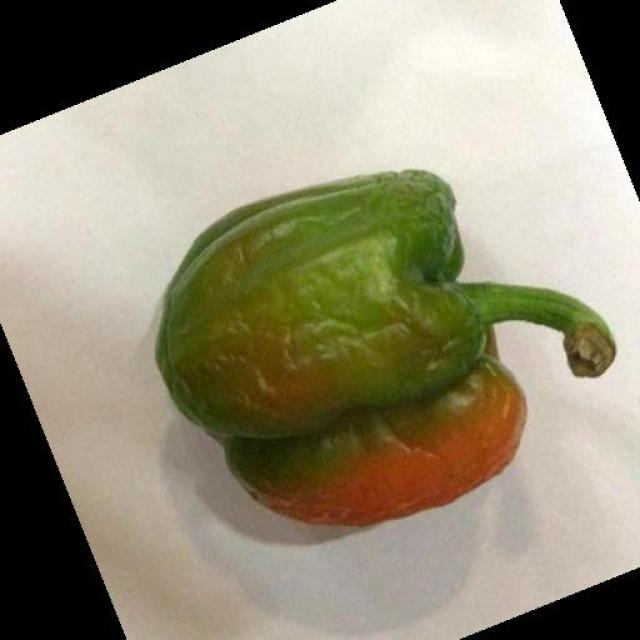Stale_Capsicum: (146, 162, 578, 520)
